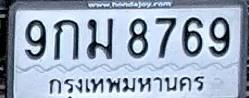6: (182, 17, 202, 56)
7: (155, 17, 176, 58)
8: (127, 17, 148, 58)
9: (25, 19, 46, 59), (208, 16, 229, 56)
A01: (53, 19, 79, 60)
A33: (86, 17, 114, 58)
BKK: (46, 72, 208, 97)
